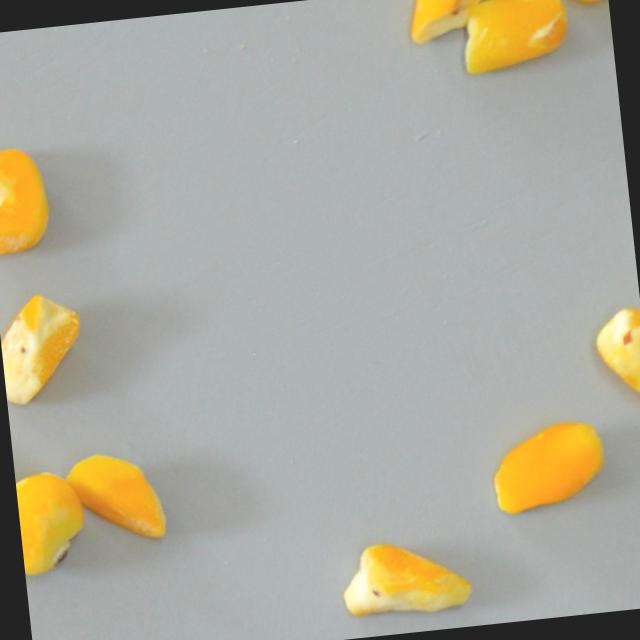dañado: (329, 529, 478, 628), (482, 410, 614, 520), (64, 443, 171, 548), (453, 0, 575, 77), (14, 462, 90, 577), (591, 301, 640, 426), (545, 0, 609, 11)
punto_negro: (0, 285, 94, 411), (0, 135, 57, 261)
